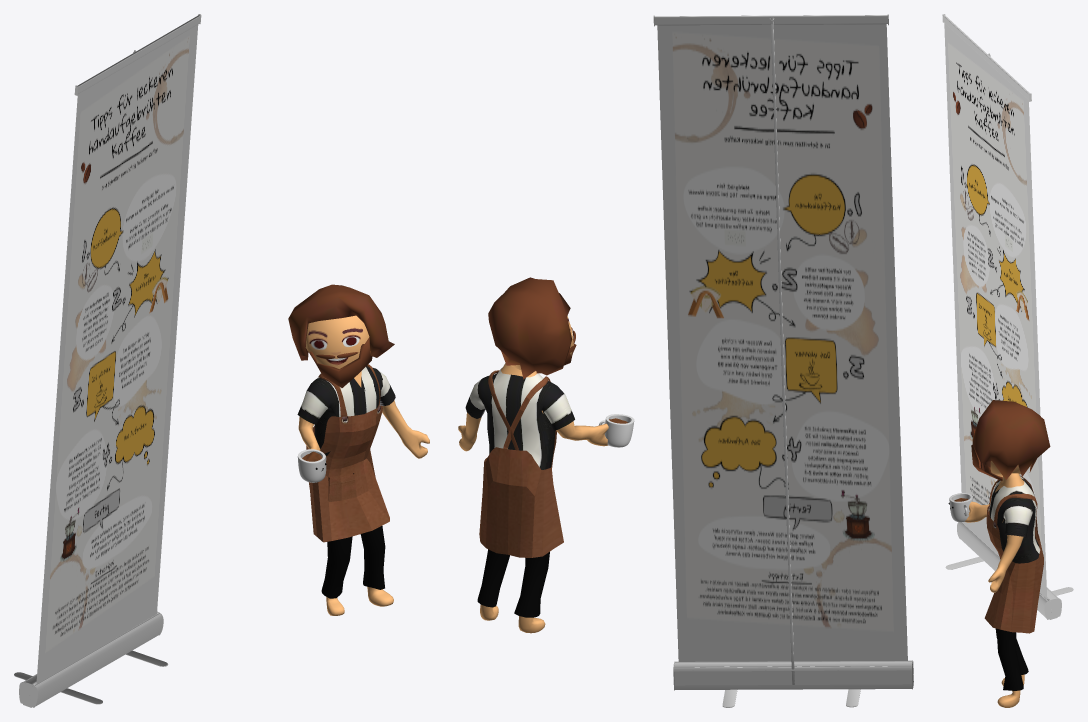
The model's file is GLB_2_Coffeeman.glb.
The picture shows the model from 3 angles, left to right: view 1: azimuth 30°, elevation 25°; view 2: azimuth 150°, elevation 25°; view 3: azimuth 270°, elevation 25°; orthographic projection. The views are drawn at different scales.
Parts seen in each view (by area): view 1: Plane, Cube.002_4, Cube_2; view 2: Plane, Cube.002_4, Cube_2; view 3: Plane, Cube.002_4, Cube_2.
Boxes of the visible parts, x1,y1,x2,y2 form: Plane: [14, 14, 201, 707]; Cube.002_4: [288, 284, 429, 615]; Cube_2: [297, 449, 326, 482]; Plane: [653, 14, 913, 707]; Cube.002_4: [458, 277, 608, 633]; Cube_2: [604, 414, 634, 447]; Plane: [942, 14, 1073, 619]; Cube.002_4: [965, 400, 1050, 707]; Cube_2: [949, 493, 972, 522].
Bounding box in the file's own units: 0.4108 × 0.5879 × 0.1278.
Materials: 9 (5 with a texture image).
